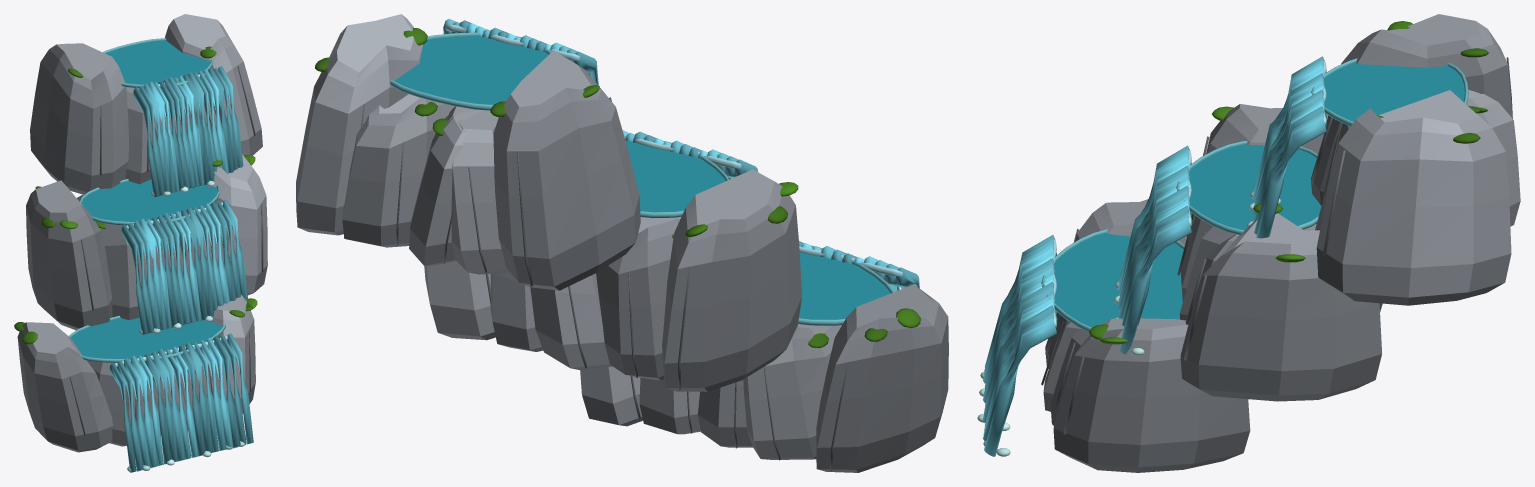
File: waterfall-CxKmoHOS.glb
3 views of the same model, side by side, from view 1: azimuth 30°, elevation 25°; view 2: azimuth 150°, elevation 25°; view 3: azimuth 270°, elevation 25° (orthographic). The views are drawn at different scales.
Parts seen in each view (by area): view 1: waterfall; view 2: waterfall; view 3: waterfall.
Part boxes in pixels (left/top/right/bottom): waterfall: left=14, top=14, right=267, bottom=472; waterfall: left=296, top=14, right=948, bottom=472; waterfall: left=977, top=14, right=1520, bottom=472.
Size of the model in its own units: 7.1 by 6.4 by 7.4.
